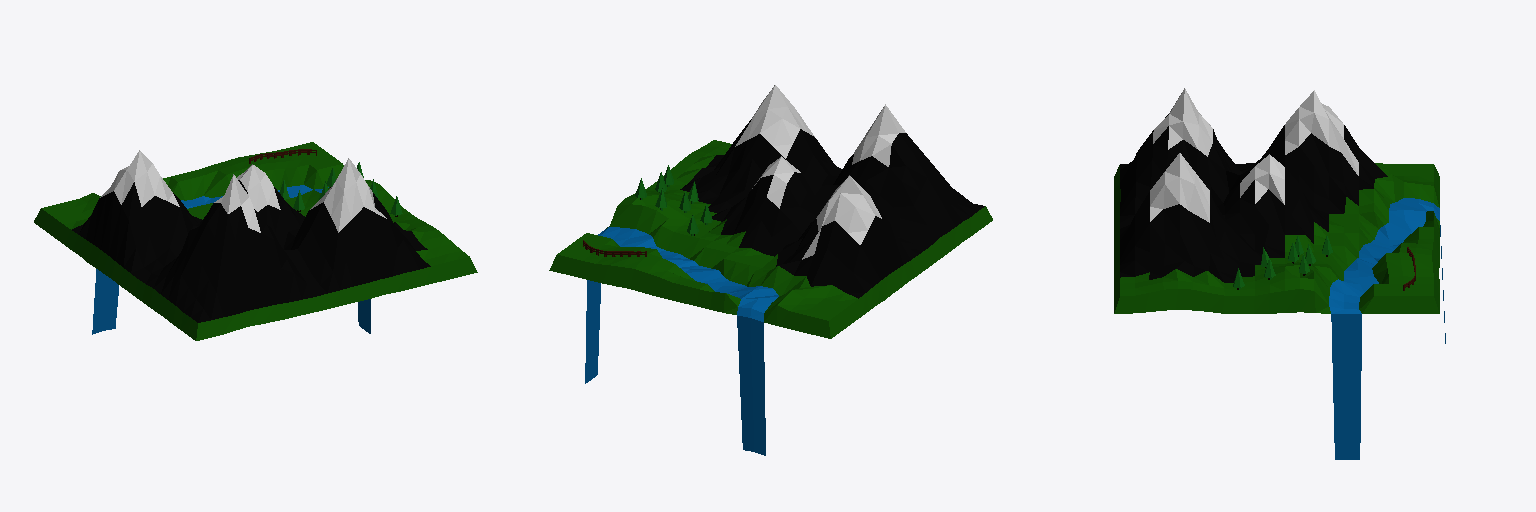
File: island.obj
3 renders of one model, left to right at view 1: azimuth 30°, elevation 25°; view 2: azimuth 150°, elevation 25°; view 3: azimuth 270°, elevation 25°, orthographic.
Visible parts, largest first — view 1: Plane, Cylinder.001_Cylinder.002; view 2: Plane, Cylinder.001_Cylinder.002; view 3: Plane, Cylinder.001_Cylinder.002.
Part boxes in pixels (left/top/right/bottom): Plane: left=34, top=142, right=477, bottom=340; Cylinder.001_Cylinder.002: left=279, top=162, right=402, bottom=216; Plane: left=549, top=85, right=992, bottom=455; Cylinder.001_Cylinder.002: left=635, top=165, right=712, bottom=235; Plane: left=1114, top=88, right=1445, bottom=459; Cylinder.001_Cylinder.002: left=1233, top=236, right=1332, bottom=289.
Size of the model in its own units: 8.69 by 7.79 by 8.73.